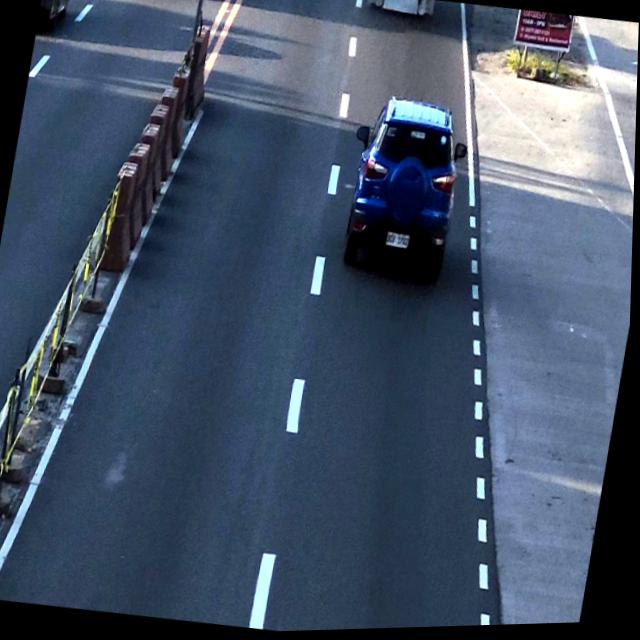License-Plate: (383, 231, 413, 258)
Motorcycle: (334, 90, 478, 289)
